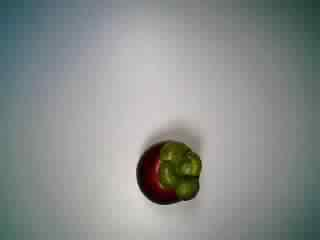mangosteen: (131, 131, 210, 209)
